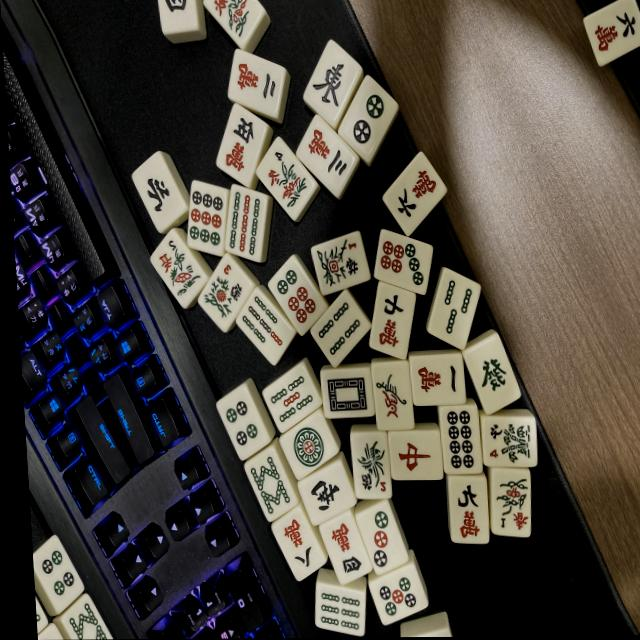bai: (320, 369, 374, 420)
east: (301, 38, 367, 127)
f1: (307, 232, 368, 297)
f2: (350, 431, 393, 501)
f3: (193, 253, 260, 332)
f4: (481, 414, 537, 467)
fa: (464, 331, 525, 413)
ff1: (488, 469, 535, 537)
ff2: (147, 231, 212, 311)
ff4: (252, 135, 320, 220)
m1: (410, 352, 467, 406)
m2: (225, 47, 290, 117)
m3: (293, 114, 363, 198)
m4: (316, 510, 372, 584)
m5: (209, 103, 271, 187)
m6: (379, 154, 451, 238), (582, 0, 640, 64)
m7: (365, 282, 417, 360)
m8: (267, 508, 328, 583)
m9: (445, 477, 490, 547)
north: (128, 152, 188, 232)
s1: (370, 361, 414, 430)
s3: (424, 268, 483, 349)
s4: (231, 288, 298, 363), (307, 291, 372, 366)
s5: (260, 363, 324, 432)
s6: (312, 583, 368, 636)
s8: (240, 448, 301, 523), (54, 596, 117, 640)
s9: (219, 184, 273, 263)
south: (294, 461, 357, 526)
t1: (274, 411, 341, 482)
t2: (331, 76, 401, 165)
t3: (353, 500, 410, 577)
t4: (211, 382, 275, 461), (32, 536, 89, 612)
t5: (369, 564, 429, 626)
t6: (263, 257, 330, 337)
t7: (376, 241, 433, 287)
t8: (438, 405, 482, 477)
t9: (176, 179, 234, 257)
zhong: (388, 430, 445, 483)
